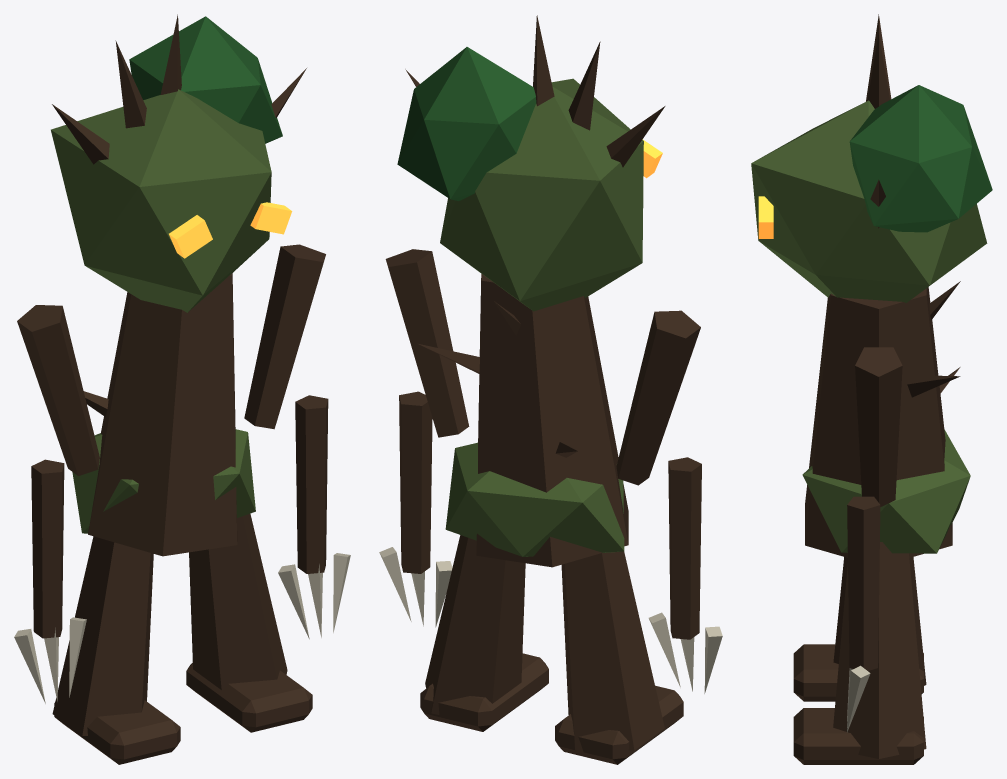
Rendered from briarling.glb.
3 views of the same model, side by side, from view 1: azimuth 30°, elevation 25°; view 2: azimuth 150°, elevation 25°; view 3: azimuth 270°, elevation 25° (orthographic). The views are drawn at different scales.
Visible parts, largest first — view 1: head, torso, leg_r, leg_l, arm_l, arm_r; view 2: head, torso, leg_r, leg_l, arm_l, arm_r; view 3: head, torso, leg_l, arm_l, leg_r.
Boxes of the visible parts, x1,y1,x2,y2 form: head: [51, 14, 306, 312]; torso: [72, 273, 255, 556]; leg_r: [52, 536, 180, 764]; leg_l: [186, 514, 312, 732]; arm_l: [244, 244, 350, 639]; arm_r: [14, 305, 99, 703]; head: [397, 15, 665, 311]; torso: [418, 274, 628, 567]; leg_r: [555, 551, 683, 764]; leg_l: [420, 535, 548, 731]; arm_l: [379, 249, 469, 627]; arm_r: [616, 310, 722, 693]; head: [751, 14, 992, 302]; torso: [802, 281, 970, 557]; leg_l: [793, 542, 926, 764]; arm_l: [847, 347, 902, 732]; leg_r: [793, 557, 926, 701].
Bounding box in the file's own units: 0.7657 × 1.52 × 0.4826.
